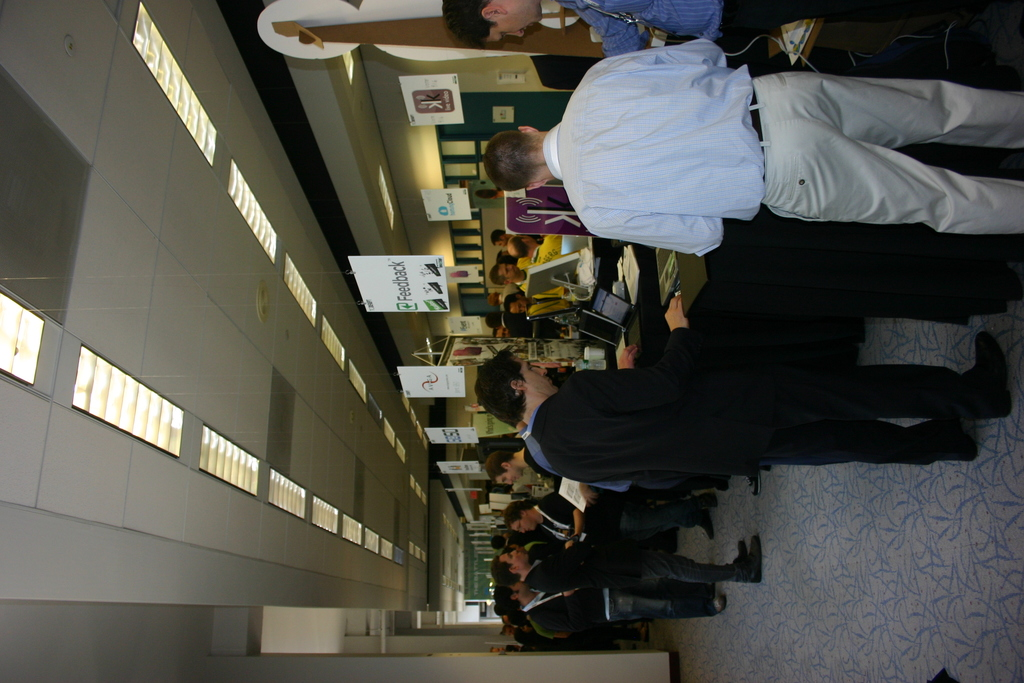Footwear: (968, 327, 1009, 416), (953, 404, 974, 461), (742, 534, 762, 585), (744, 467, 762, 496), (694, 509, 711, 538), (735, 541, 748, 570), (698, 495, 720, 505), (715, 596, 727, 614), (641, 625, 647, 645)
